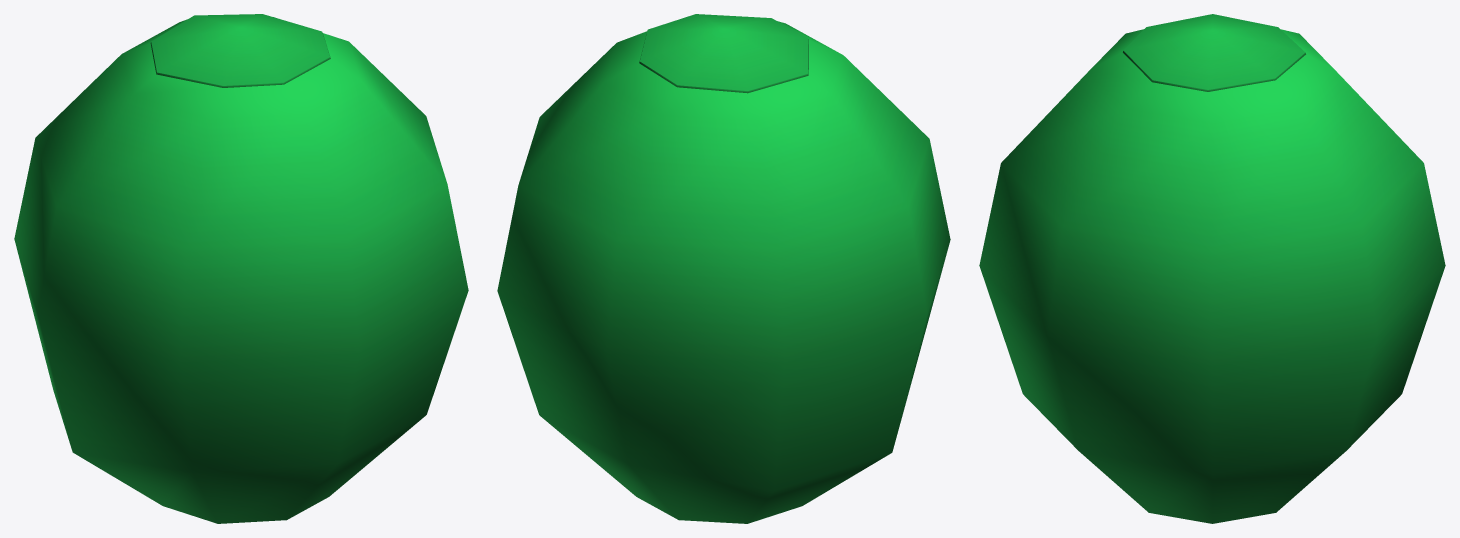
File: coconut_green.fbx
3 views of the same model, side by side, from view 1: azimuth 30°, elevation 25°; view 2: azimuth 150°, elevation 25°; view 3: azimuth 270°, elevation 25° (orthographic).
Parts seen in each view (by area): view 1: coconut_green_mesh; view 2: coconut_green_mesh; view 3: coconut_green_mesh.
Part boxes in pixels (x1,y1,x2,y2): coconut_green_mesh: (14, 14, 468, 523); coconut_green_mesh: (497, 14, 950, 523); coconut_green_mesh: (979, 14, 1445, 523).
Size of the model in its own units: 1.37 by 1.52 by 1.37.
